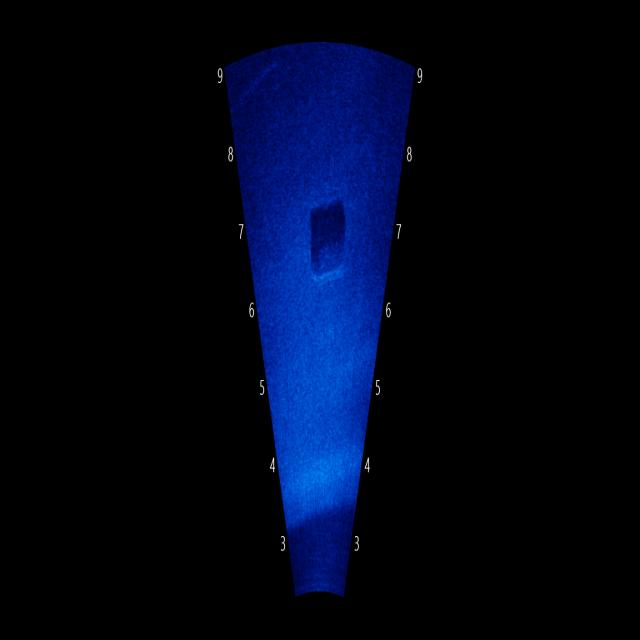square: (306, 187, 349, 299)
